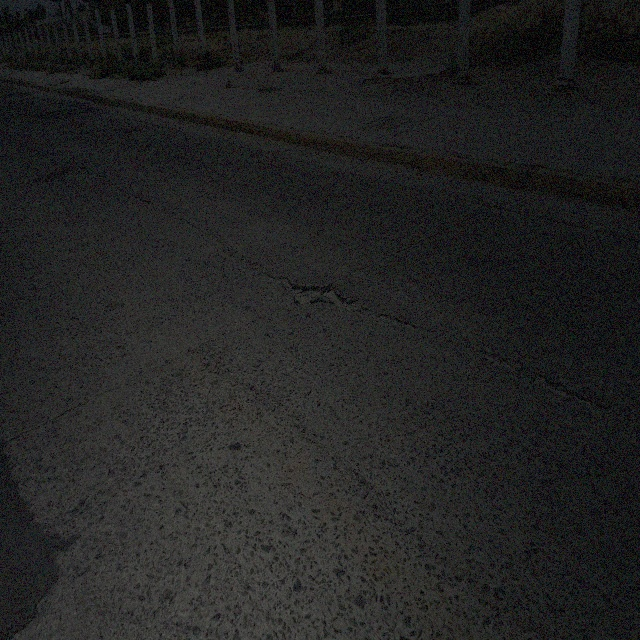pothole: (273, 266, 357, 312), (534, 367, 588, 402), (479, 349, 517, 371)
